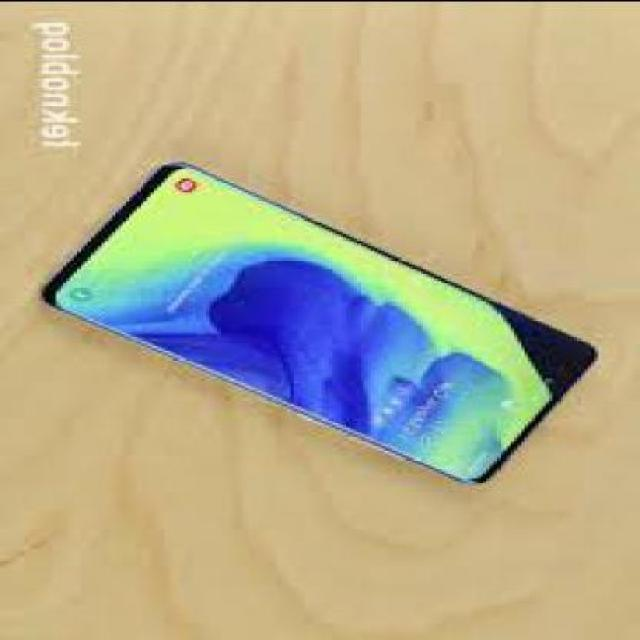phone: (28, 159, 602, 485)
